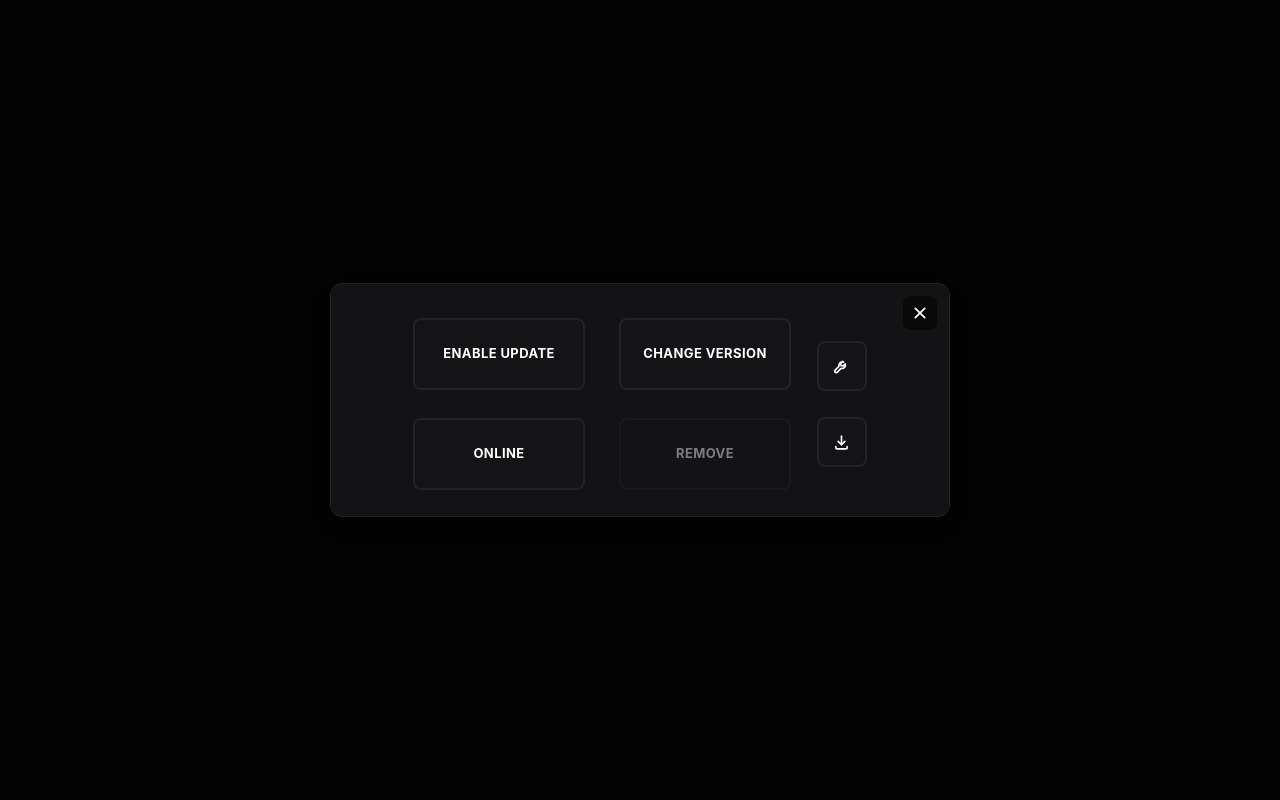
it: online presence reads › opening the online panel never writes presence settings
Click the button "ONLINE" at (499, 454), box [413,418,585,490]
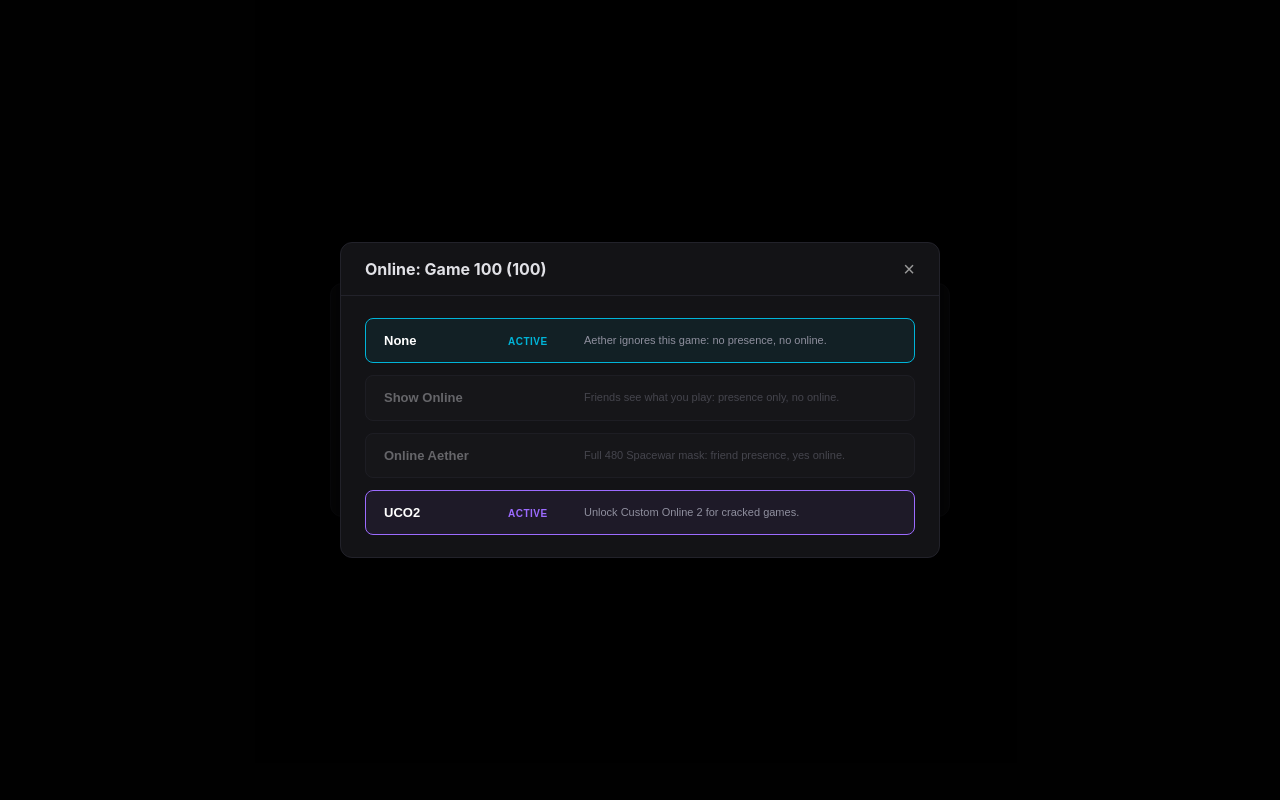
Result: the text "Aether ignores this game: no presence, no online." is shown at [584,334,827,346]
